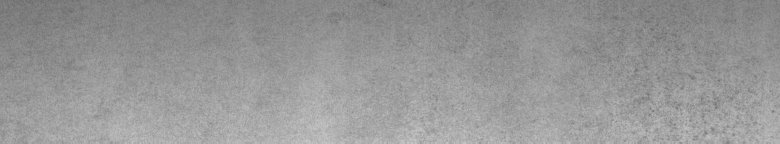ib: (640, 28, 740, 136)
